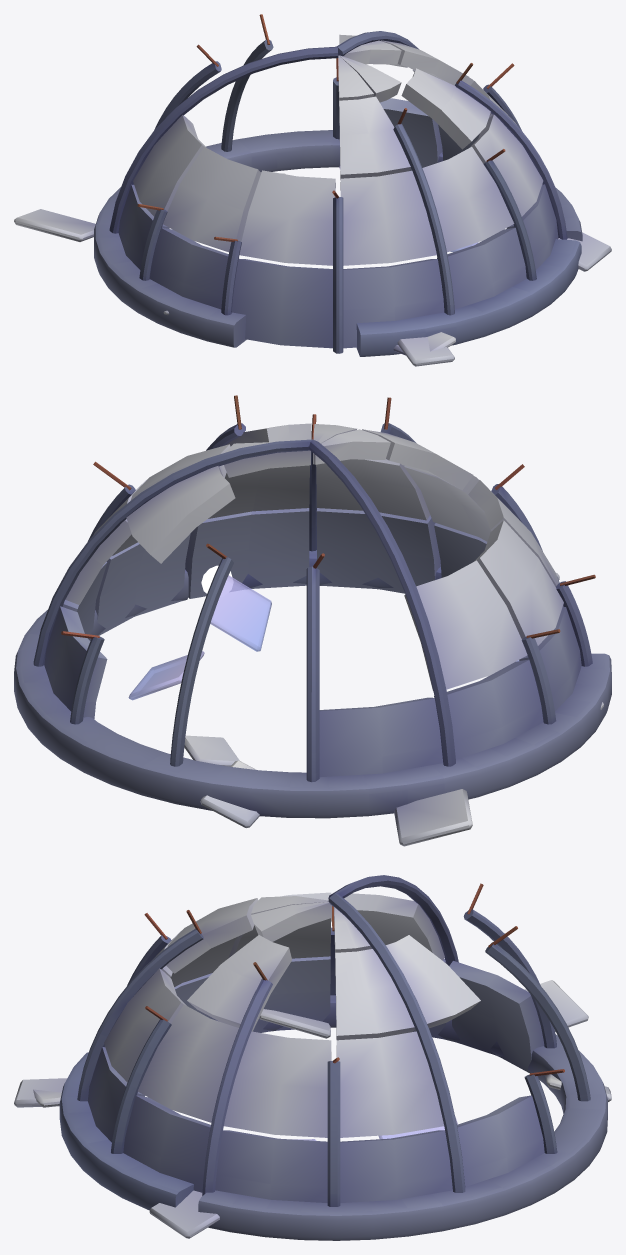
Rendered from hub_ruin_dome_collapsed.glb.
3 renders of one model, top to bottom at view 1: azimuth 30°, elevation 25°; view 2: azimuth 150°, elevation 25°; view 3: azimuth 270°, elevation 25°, orthographic. The views are drawn at different scales.
Visible parts, largest first — view 1: hub_ruin_dome_collapsed; view 2: hub_ruin_dome_collapsed; view 3: hub_ruin_dome_collapsed.
Boxes of the visible parts, x1,y1,x2,y2 form: hub_ruin_dome_collapsed: (14,14,611,366); hub_ruin_dome_collapsed: (14,395,611,846); hub_ruin_dome_collapsed: (14,875,611,1240).
Size of the model in its own units: 9.11 by 4.23 by 9.59.
